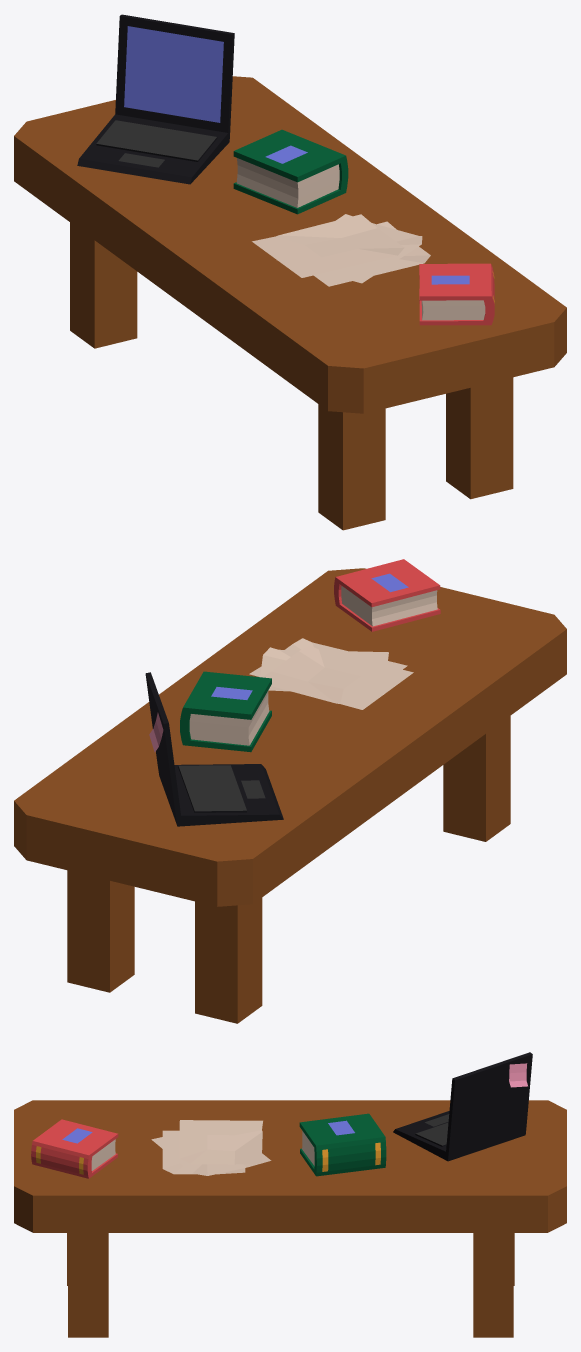
The model's file is table con objetos.fbx.
3 renders of one model, top to bottom at view 1: azimuth 30°, elevation 25°; view 2: azimuth 150°, elevation 25°; view 3: azimuth 270°, elevation 25°, orthographic. The views are drawn at different scales.
Parts seen in each view (by area): view 1: table, notebook, papaers, book1, book2; view 2: table, notebook, papaers, book1, book2; view 3: table, notebook, papaers, book1, book2.
Part boxes in pixels (box(x1,y1,x2,y2)): table: box(14, 76, 566, 530); notebook: box(77, 14, 234, 184); papaers: box(252, 214, 430, 286); book1: box(233, 129, 348, 214); book2: box(419, 263, 494, 325); table: box(14, 568, 566, 1023); notebook: box(145, 672, 283, 826); papaers: box(249, 638, 413, 709); book1: box(180, 671, 271, 752); book2: box(334, 559, 440, 631); table: box(14, 1100, 566, 1337); notebook: box(393, 1052, 532, 1161); papaers: box(151, 1120, 271, 1175); book1: box(299, 1113, 386, 1176); book2: box(31, 1119, 118, 1178).
Size of the model in its own units: 240 by 282 by 587.
